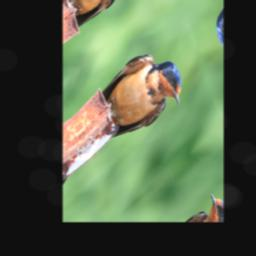Swallow: (90, 29, 188, 162)
